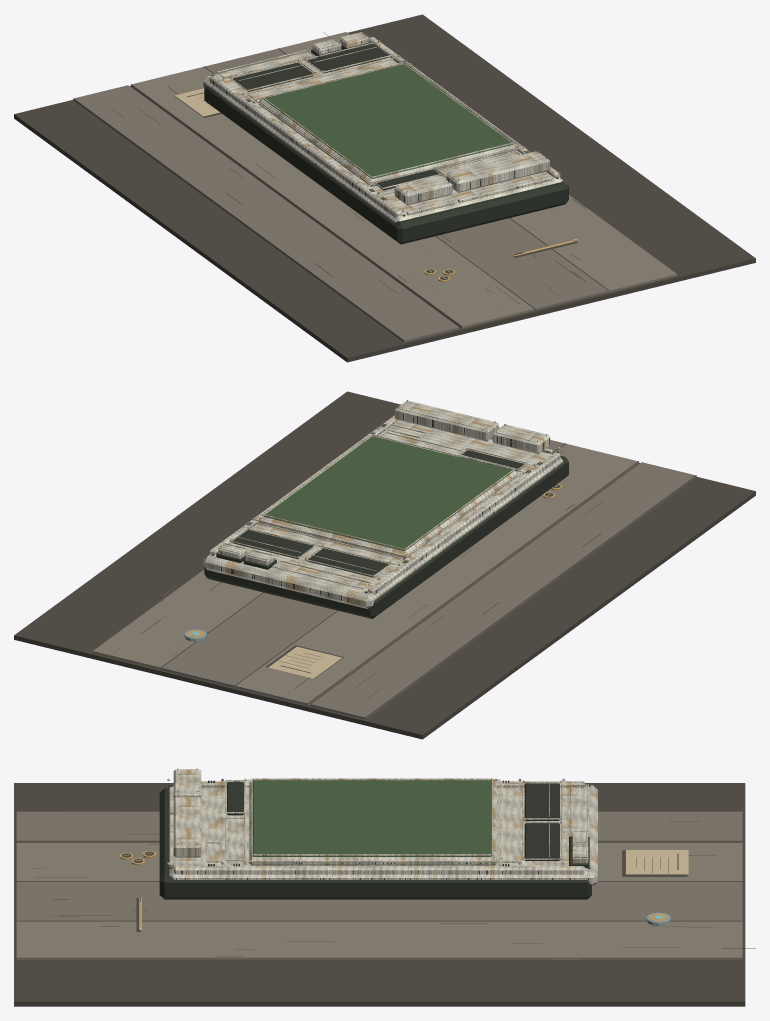
Rendered from machine.glb.
The picture shows the model from 3 angles, top to bottom: view 1: azimuth 30°, elevation 25°; view 2: azimuth 150°, elevation 25°; view 3: azimuth 270°, elevation 25°; orthographic projection. The views are drawn at different scales.
Visible parts, largest first — view 1: desk_underlay, desk_plank_0, desk_plank_1, board_glass, desk_plank_2, cabinet_bottom, desk_plank_3, cabinet_shell, shake_key, left_rail, board_bevel, deskgrain_wood_dark_details (+5 smaller); view 2: desk_underlay, desk_plank_0, desk_plank_1, board_glass, cabinet_shell, desk_plank_2, desk_plank_3, cabinet_bottom, shake_key, board_bevel, left_rail, deskgrain_wood_dark_details (+5 smaller); view 3: desk_underlay, desk_plank_3, desk_plank_2, board_glass, cabinet_shell, cabinet_bottom, desk_plank_1, desk_plank_0, right_rail, deskgrain_wood_dark_details, board_bevel, shake_key (+12 smaller).
Part boxes in pixels (x1,y1,x2,y2): desk_underlay: (14,14,755,362); desk_plank_0: (73,85,458,342); desk_plank_1: (131,67,534,328); board_glass: (263,64,512,178); desk_plank_2: (205,48,608,310); cabinet_bottom: (204,85,568,244); desk_plank_3: (279,32,677,292); cabinet_shell: (203,51,563,222); shake_key: (446,152,550,192); left_rail: (209,75,401,217); board_bevel: (259,64,516,186); deskgrain_wood_dark_details: (73,32,608,340); desk_underlay: (14,391,755,739); desk_plank_0: (311,462,696,719); desk_plank_1: (235,444,638,705); board_glass: (263,436,512,550); cabinet_shell: (203,420,563,608); desk_plank_2: (161,427,564,687); desk_plank_3: (92,570,262,669); cabinet_bottom: (204,453,568,618); shake_key: (394,400,498,441); board_bevel: (259,436,516,559); left_rail: (368,452,560,594); deskgrain_wood_dark_details: (104,443,696,717); desk_underlay: (14,783,745,1006); desk_plank_3: (16,921,742,959); desk_plank_2: (16,881,742,920); board_glass: (252,780,491,856); cabinet_shell: (169,785,597,885); cabinet_bottom: (159,788,591,899); desk_plank_1: (16,842,742,880); desk_plank_0: (16,811,742,841); right_rail: (174,866,584,874); deskgrain_wood_dark_details: (16,811,755,956); board_bevel: (249,780,496,865); shake_key: (173,797,201,857).
Bounding box in the file's own units: 9.7 × 1.89 × 13.9.
17 materials, 6 textured.
